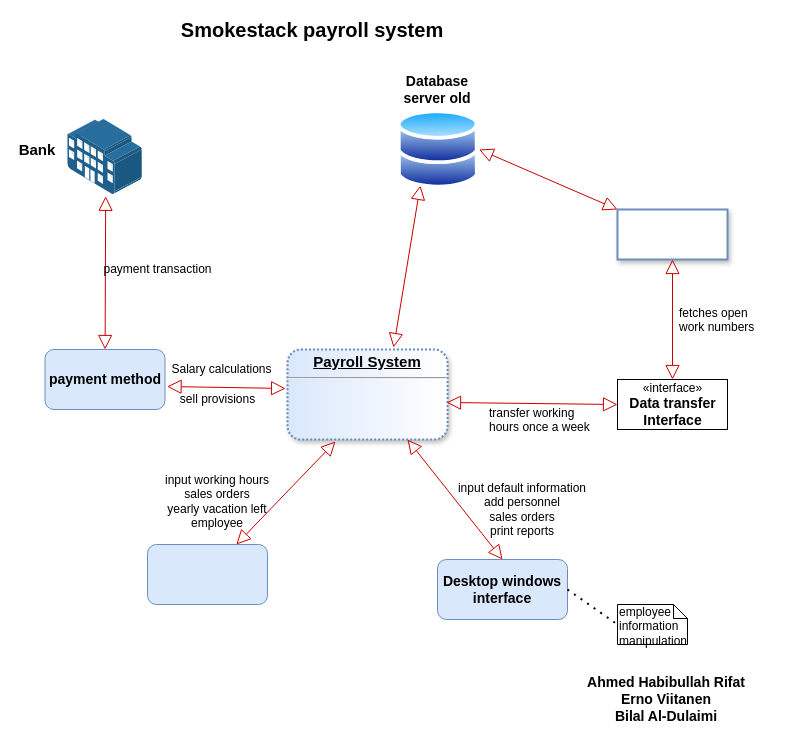
Some shapes in this 794 by 741 pixel diagram are drawn without their labels. The shapes that lost their labels are listed below. From the top down, each one's centre as x and y in pixels, then its label:
At pixel 673 235: "Project Management System Old".
At pixel 207 574: "Web interface".
